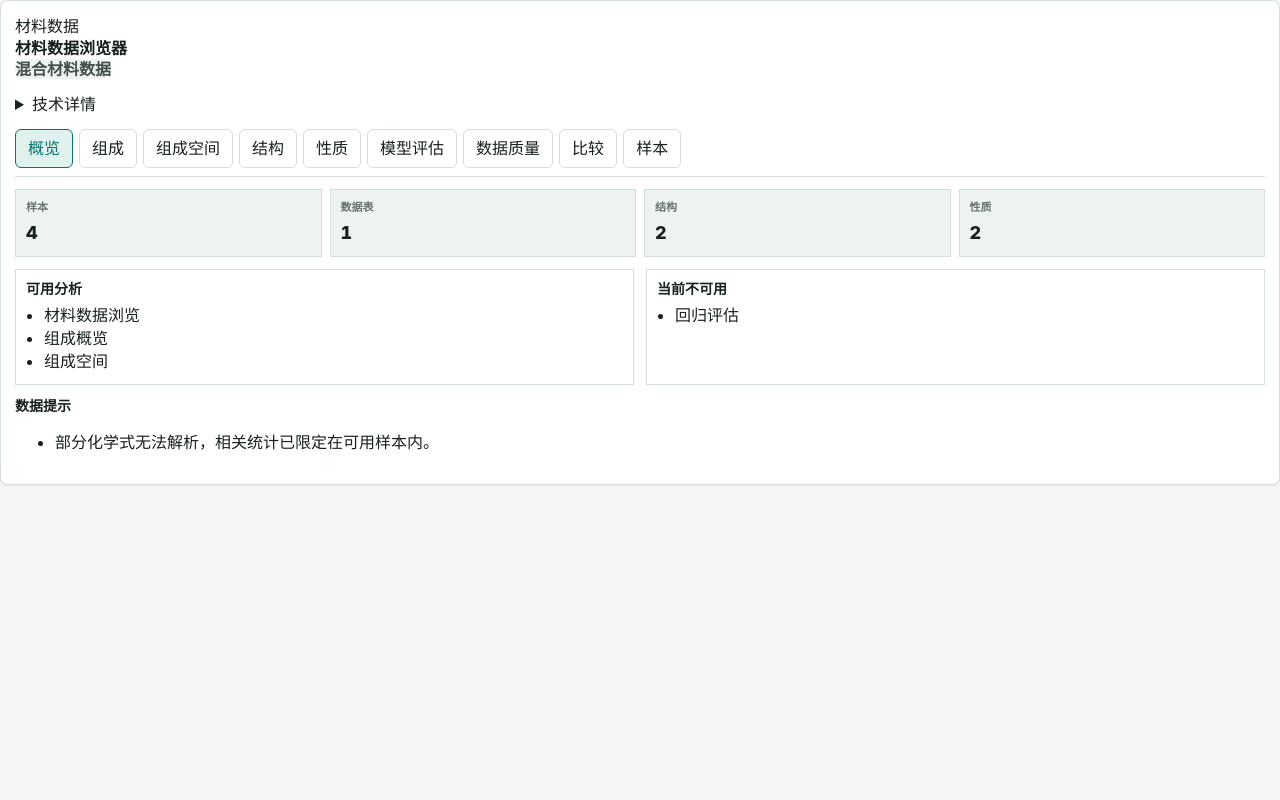
Scenario: DatasetMaterialsExplorerPanel › integrates Composition Space as a dataset tab when both artifacts are present
The image size is (1280, 800).
Click the tab "组成空间": (188, 148) [143,129,233,168]
(page scrolled)
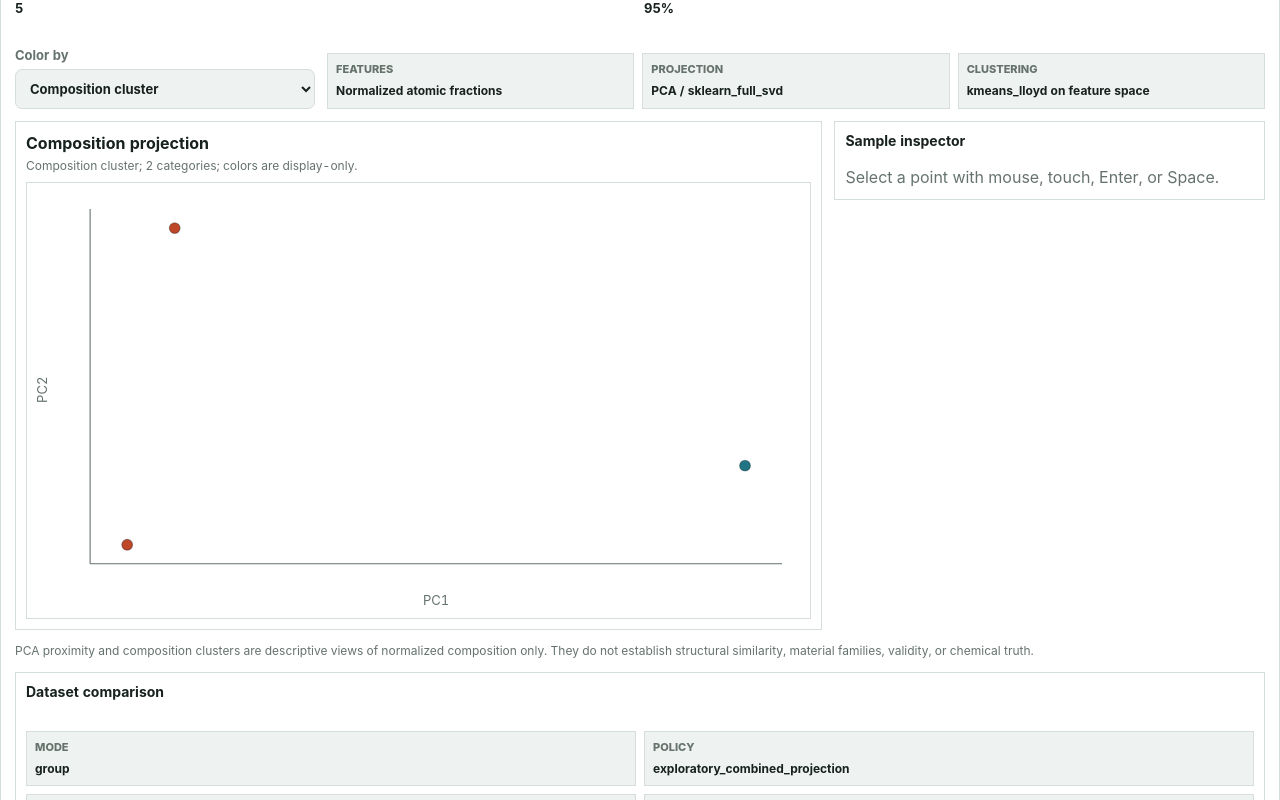
expect the picture named "PCA composition scatter colored by cluster" is shown: met, box [26,182,811,619]
